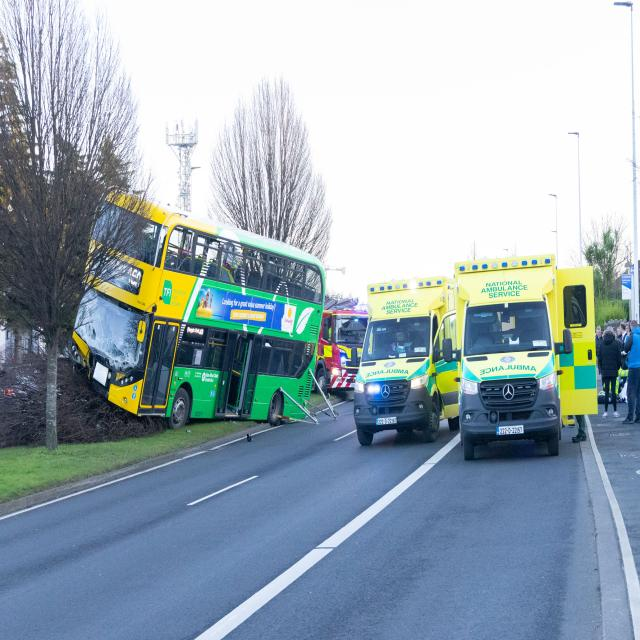Accident: (67, 182, 598, 468)
